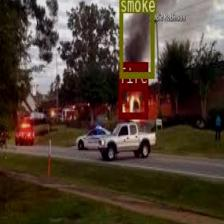fire: (118, 84, 147, 118)
smoke: (118, 0, 153, 77)
